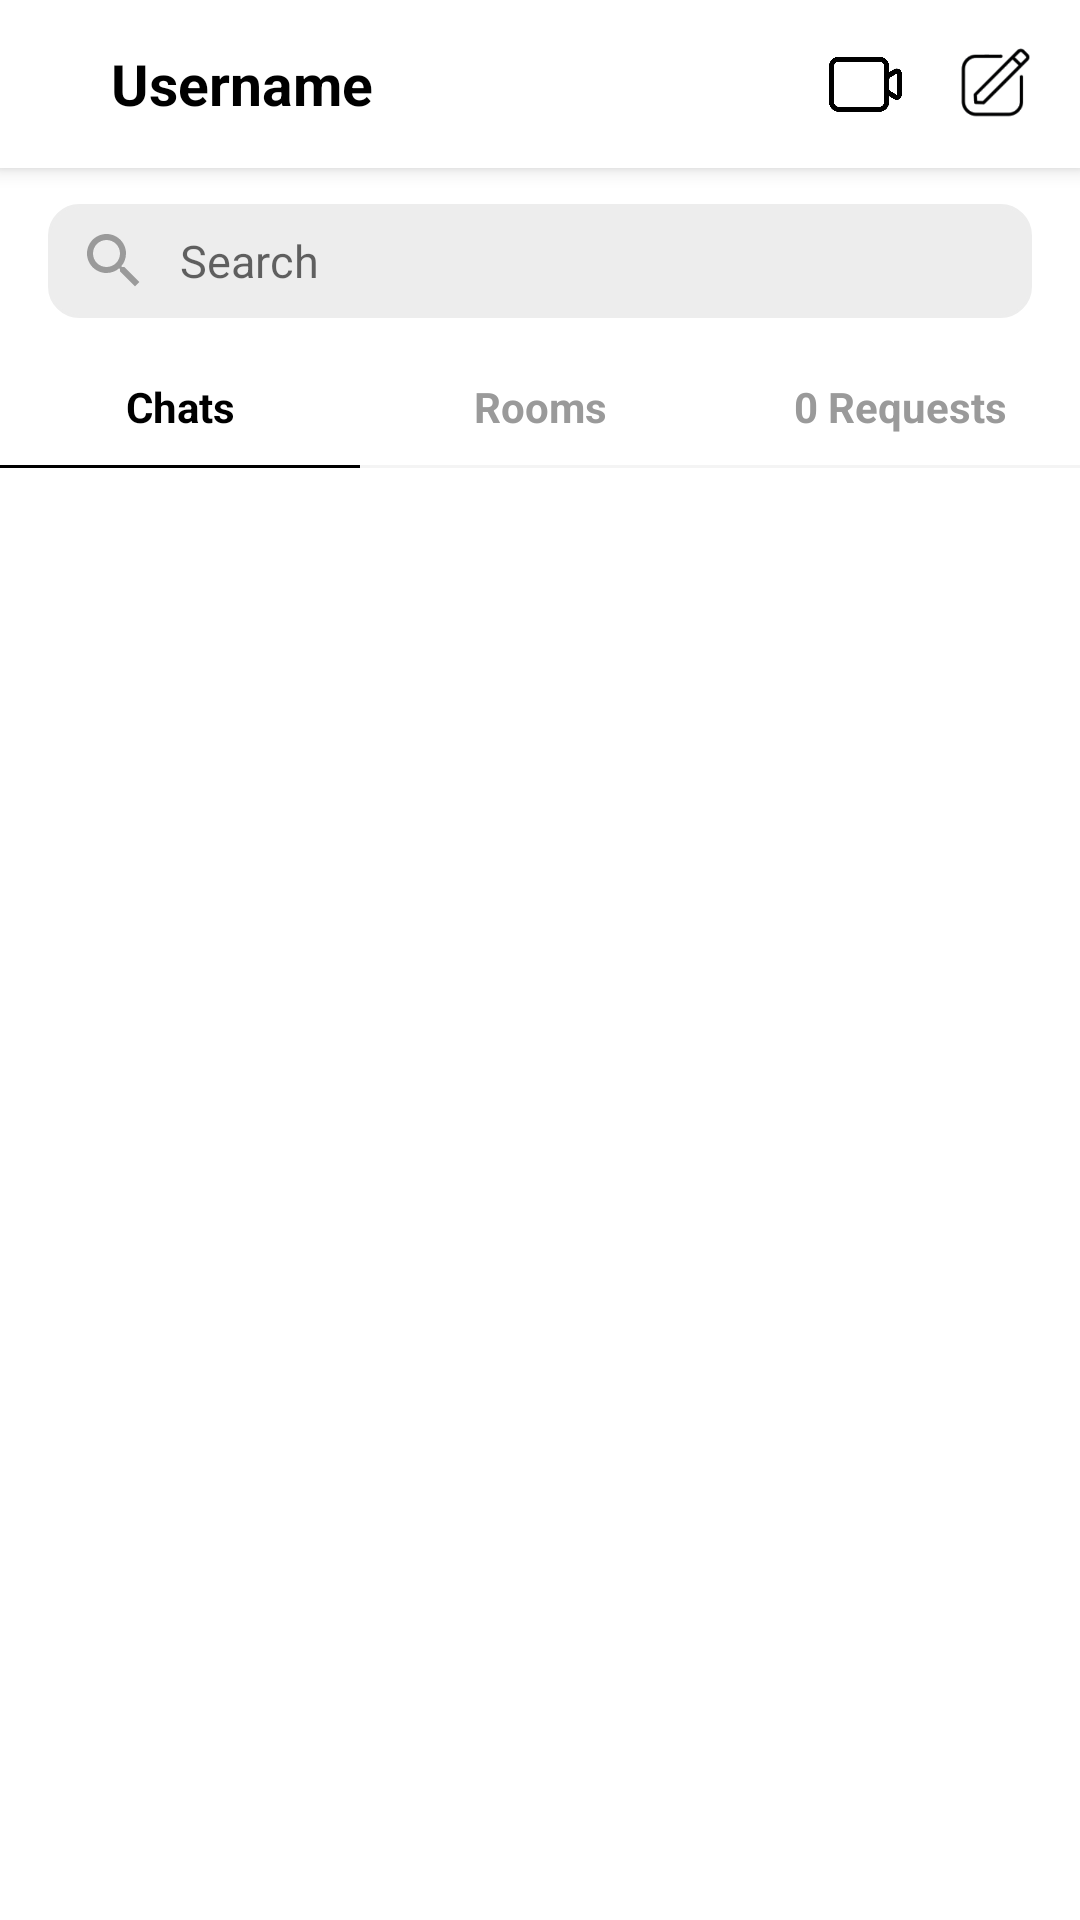

Icons on this 1080px×1920px Android screen, each with the point to tap as (x=x, y=y):
edit: (x=995, y=82)
video: (x=865, y=84)
